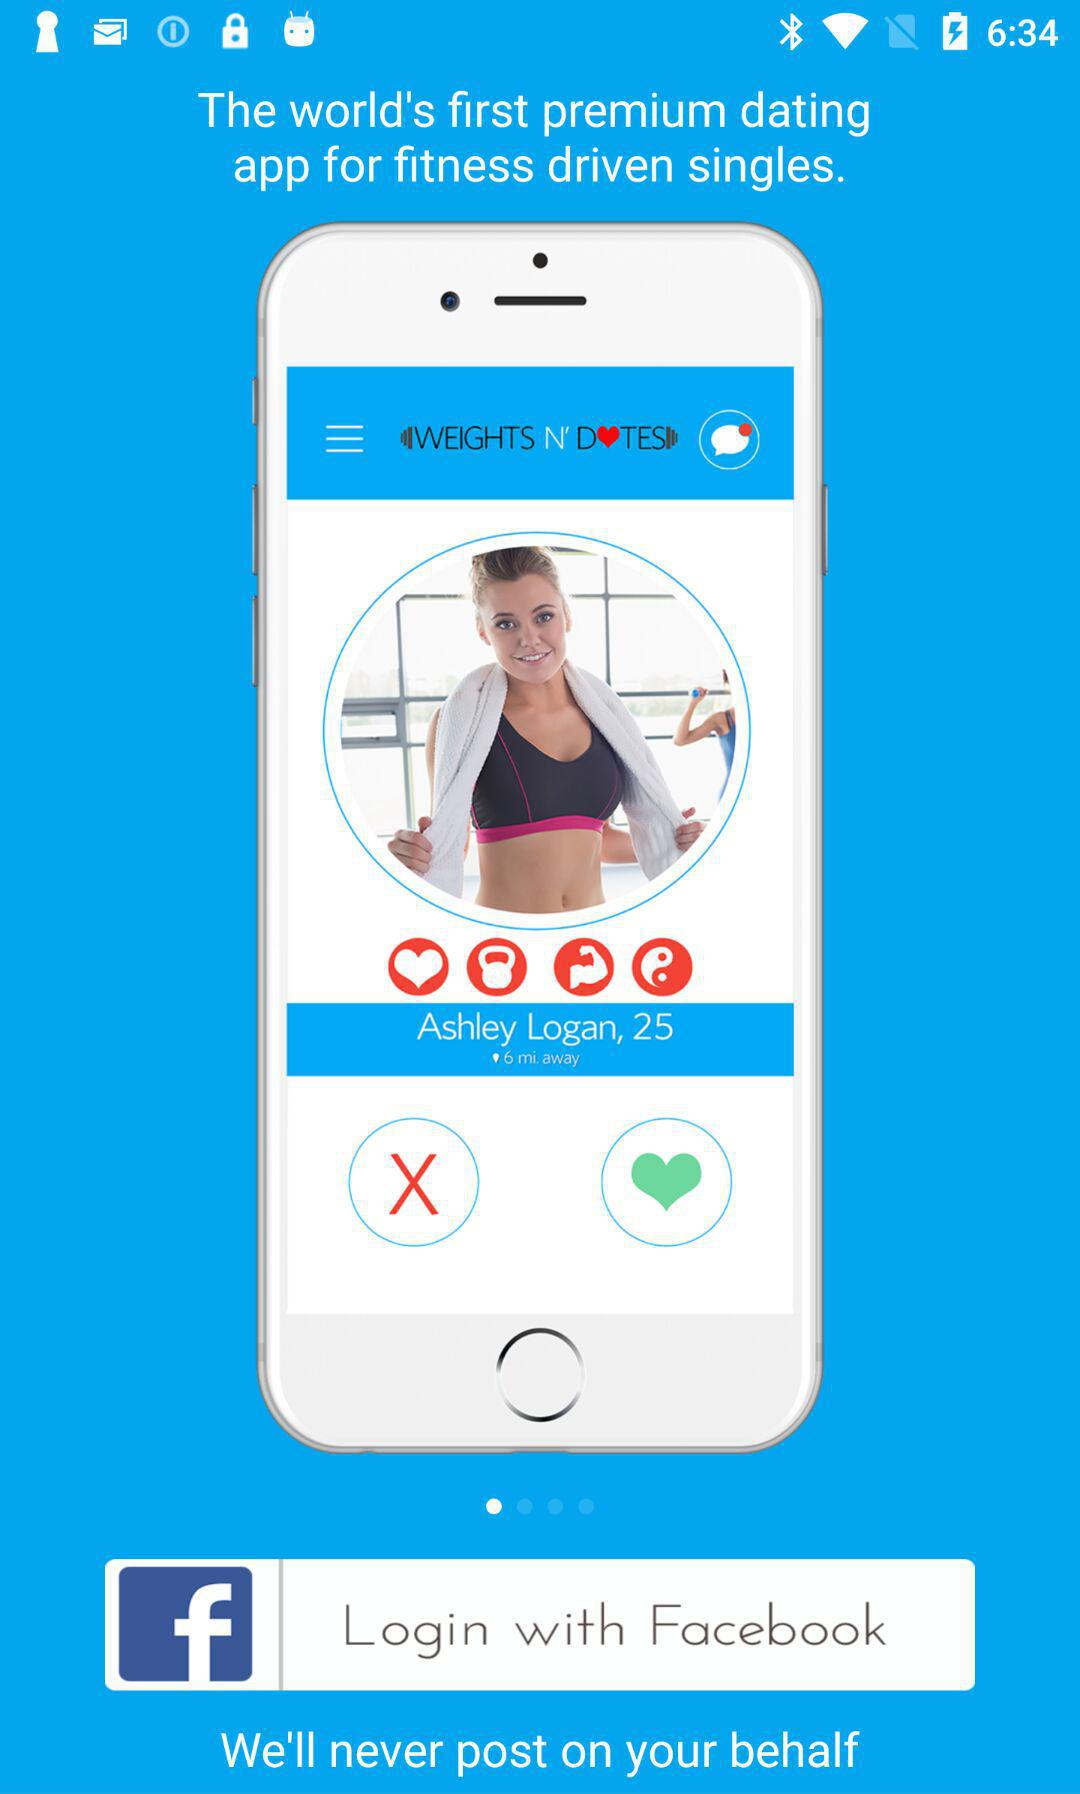Image: (252, 220, 830, 1454)
PageIndicator: (484, 1495, 597, 1517)
Text: (196, 88, 871, 193), (222, 1727, 861, 1780)
TextButton: (105, 1559, 976, 1691)
UpperTaskBar: (1, 1, 1080, 64)
